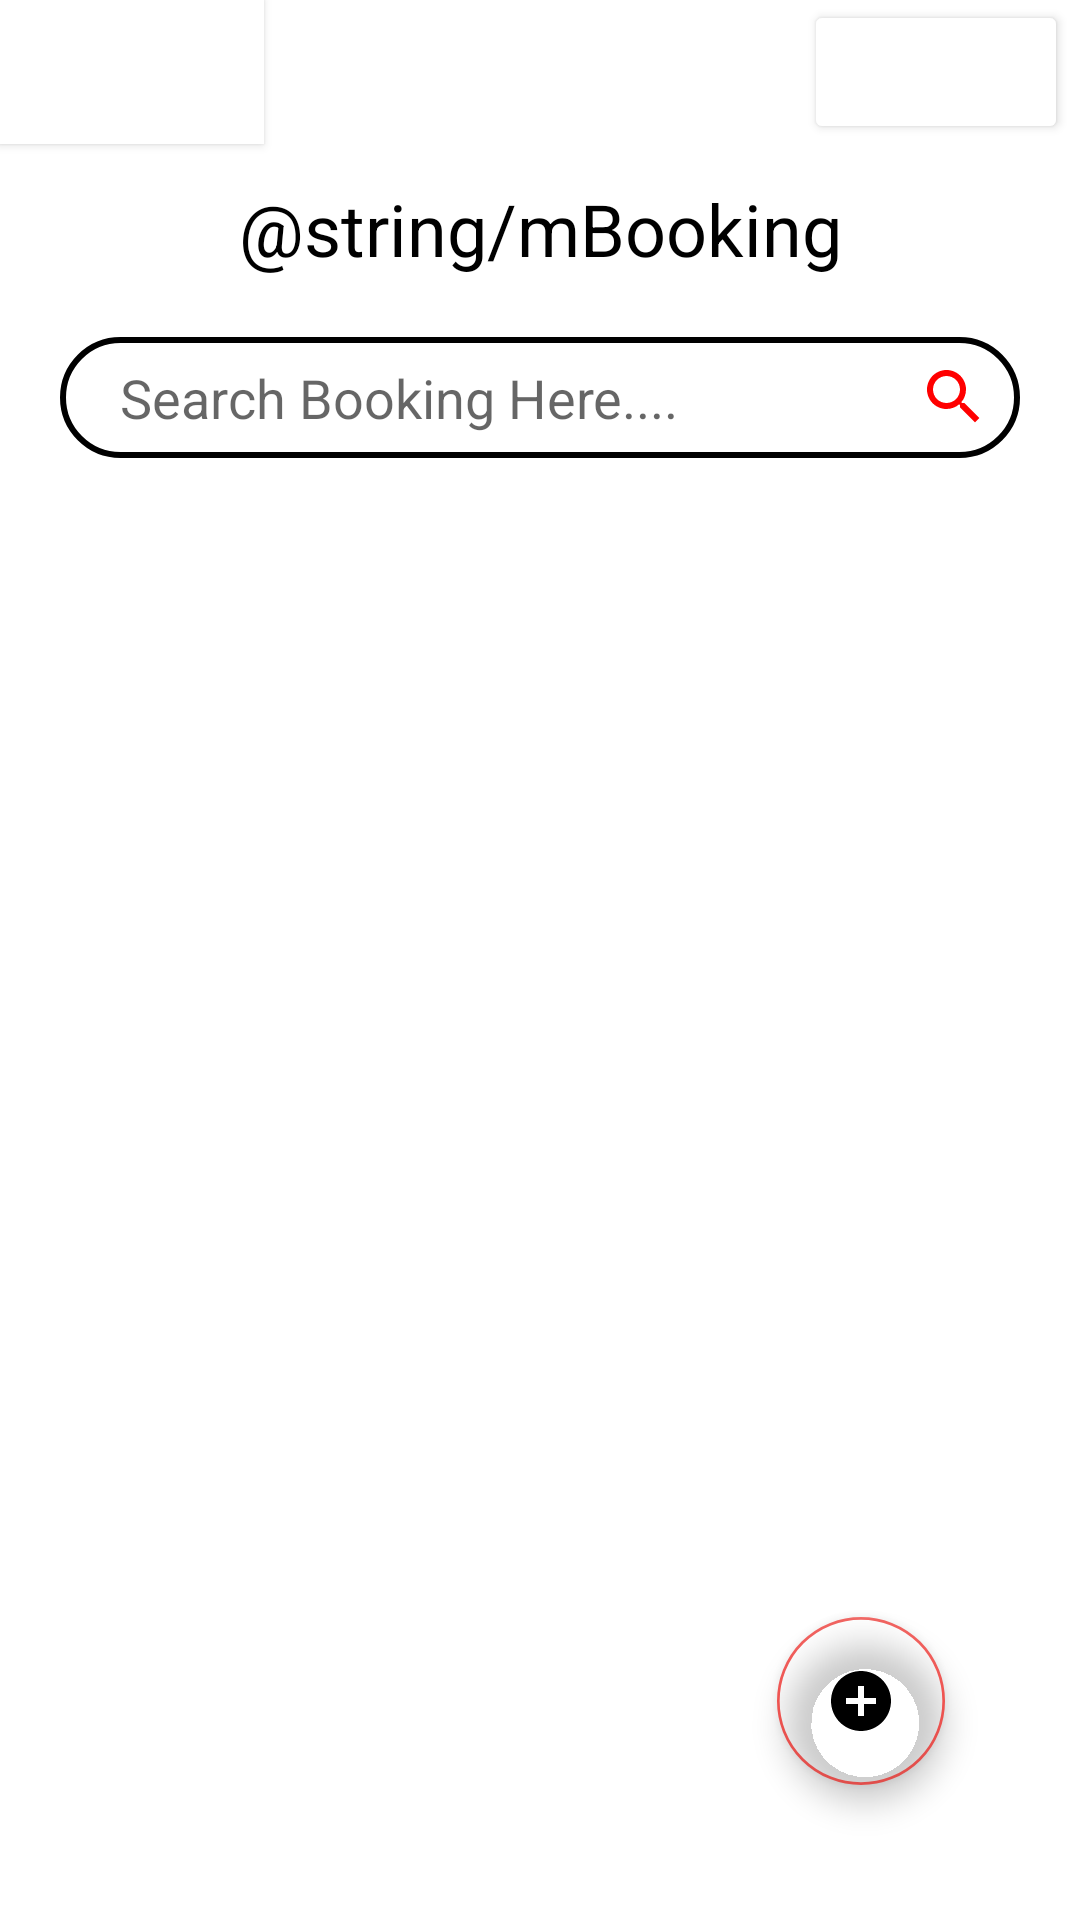

Screen size 1080x1920. Icon name, then its box in pixels as {"left": x1, "top": y1, "right": x2, "bottom": y2}:
add: {"left": 777, "top": 1617, "right": 945, "bottom": 1785}
